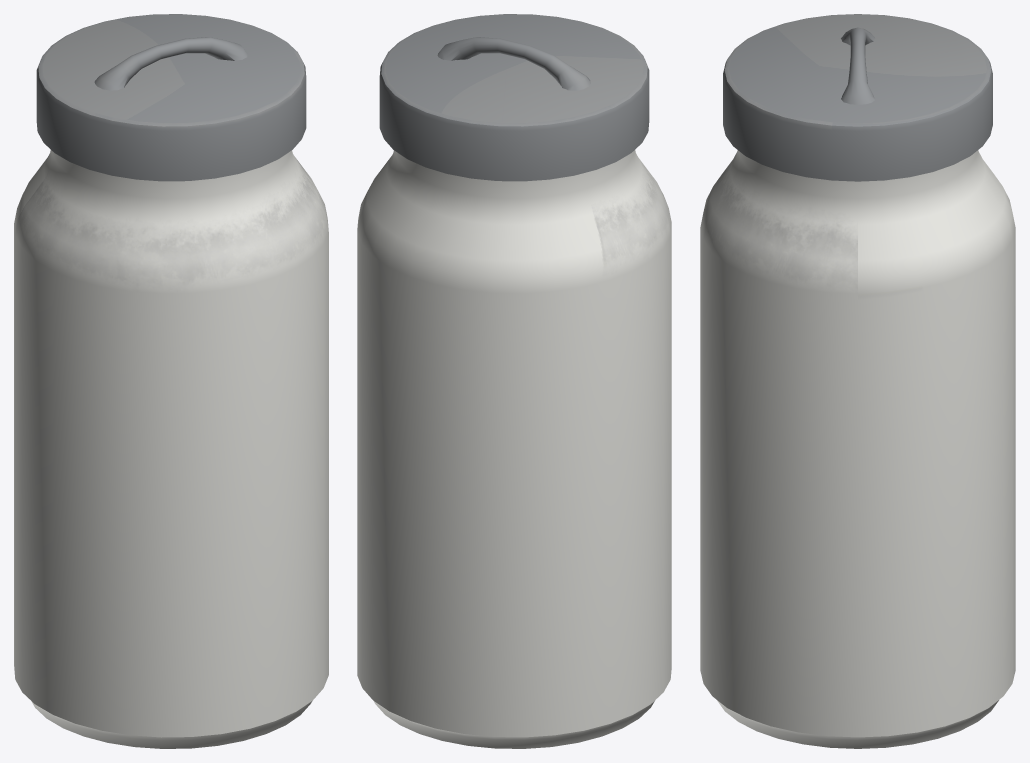
File: cookie jar f .fbx
3 views of the same model, side by side, from view 1: azimuth 30°, elevation 25°; view 2: azimuth 150°, elevation 25°; view 3: azimuth 270°, elevation 25° (orthographic).
Visible parts, largest first — view 1: jar_Jarglass_0, lid.001_lid_0; view 2: jar_Jarglass_0, lid.001_lid_0; view 3: jar_Jarglass_0, lid.001_lid_0.
Boxes of the visible parts, box(x1,y1,x2,y2) form: jar_Jarglass_0: box(14, 150, 328, 748); lid.001_lid_0: box(36, 14, 306, 181); jar_Jarglass_0: box(357, 150, 671, 748); lid.001_lid_0: box(379, 14, 649, 181); jar_Jarglass_0: box(700, 150, 1015, 748); lid.001_lid_0: box(723, 14, 992, 181).
Size of the model in its own units: 139 by 314 by 139.
